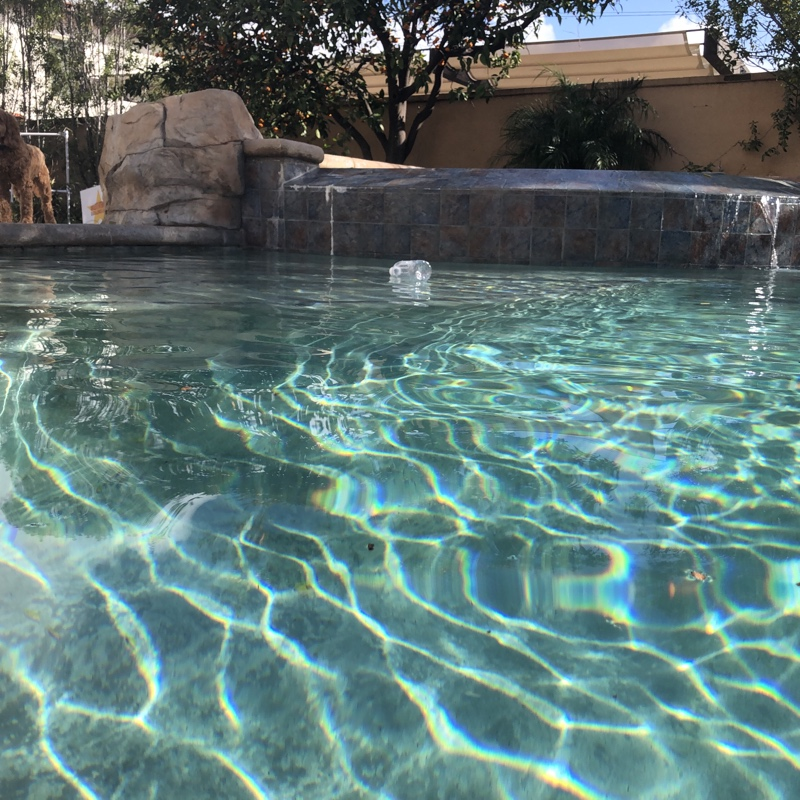Plastic Bottle: (387, 256, 434, 281)
